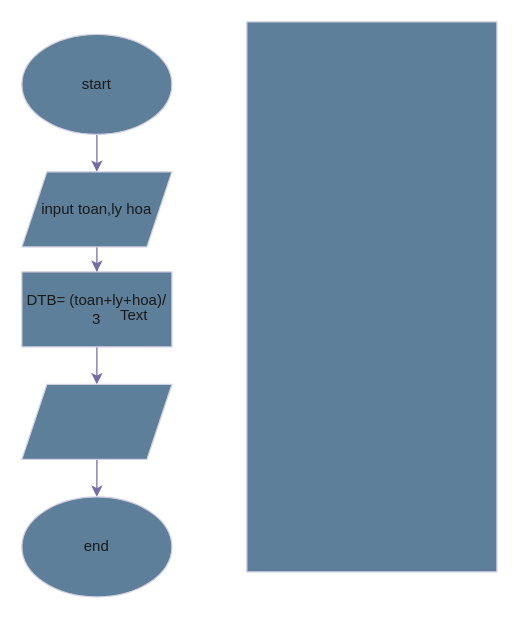
Some shapes in this 519 by 619 pixel diagram are drawn without their labels. Each missing label, with the centre of its shape:
display DTB: (x=96, y=421)
start input toan,ly,hoa DTB=(toan+ly+hoa) display DTB end: (x=371, y=296)
